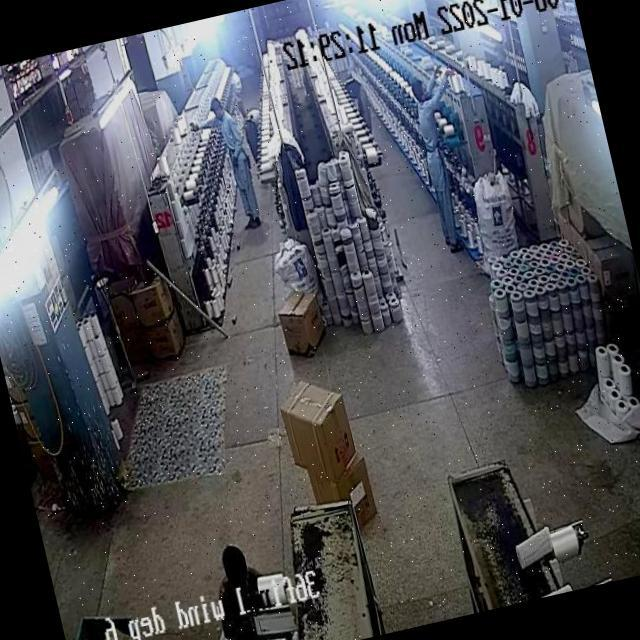person: (398, 74, 466, 247), (201, 85, 259, 227), (206, 542, 264, 624), (340, 79, 378, 141)
